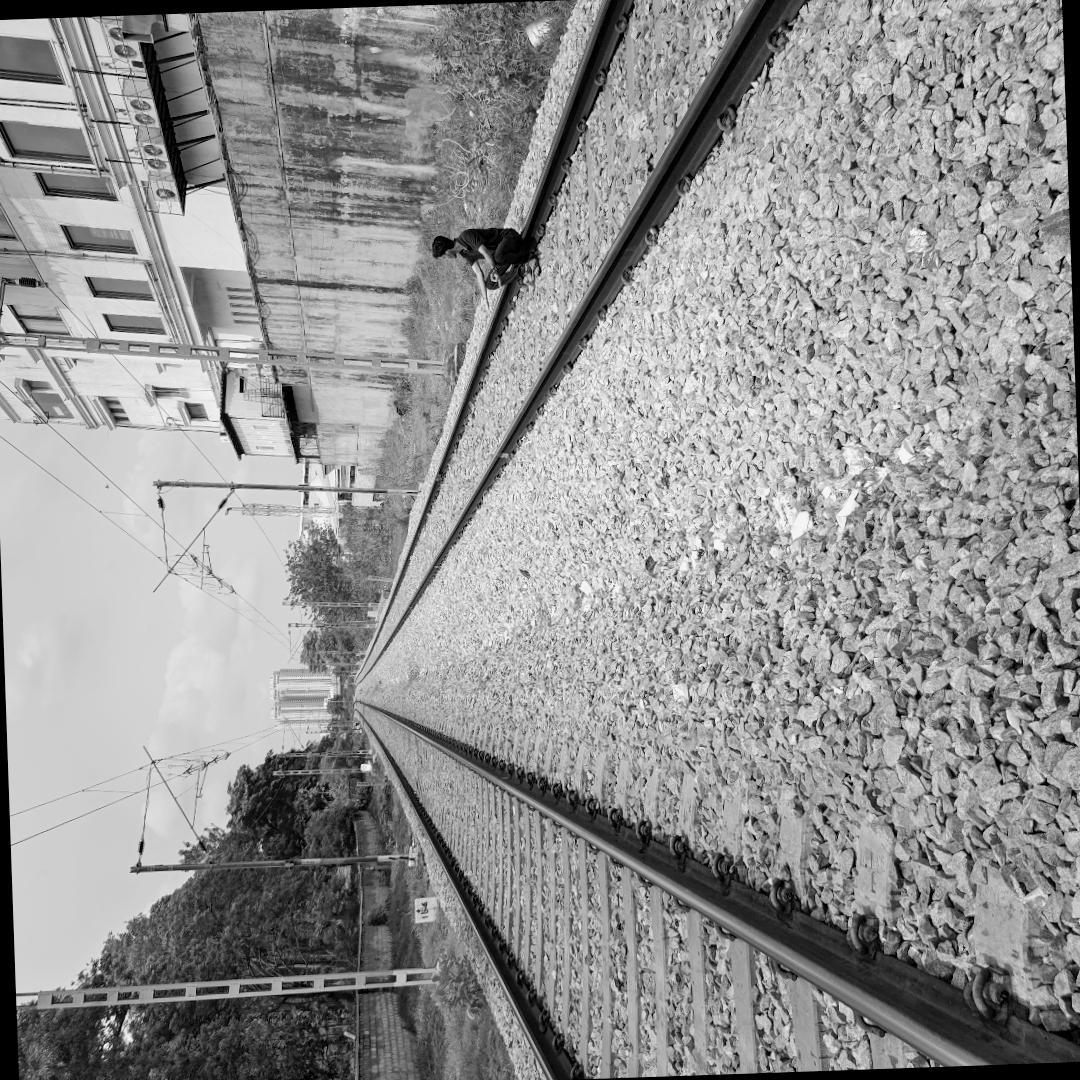sitting: (418, 204, 546, 300)
track: (376, 0, 879, 672), (358, 685, 1080, 1080)
